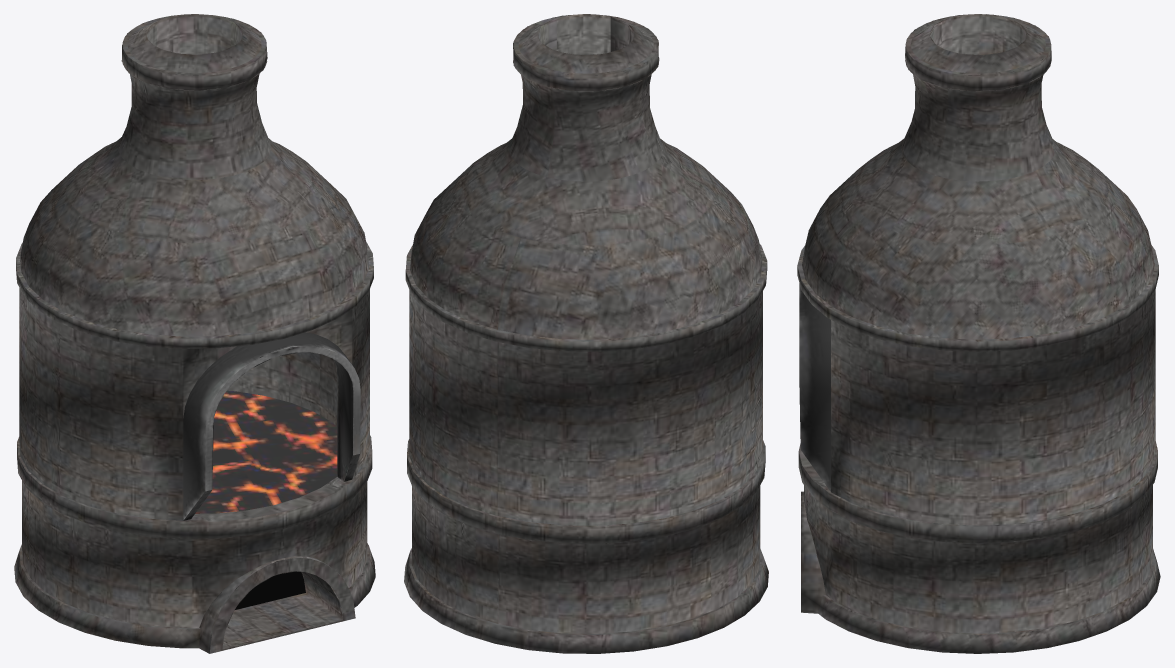
The model's file is forge_brick.glb.
3 views of the same model, side by side, from view 1: azimuth 30°, elevation 25°; view 2: azimuth 150°, elevation 25°; view 3: azimuth 270°, elevation 25° (orthographic).
Parts seen in each view (by area): view 1: Cylinder.001__0; view 2: Cylinder.001__0; view 3: Cylinder.001__0.
Boxes of the visible parts, box(x1,y1,x2,y2) form: Cylinder.001__0: box(14, 14, 375, 653); Cylinder.001__0: box(404, 14, 768, 653); Cylinder.001__0: box(797, 14, 1160, 653).
Bounding box in the file's own units: 210 × 343 × 208.
1 material, 1 textured.
